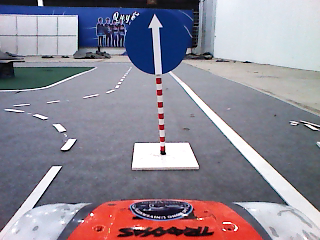straight: (125, 8, 189, 76)
